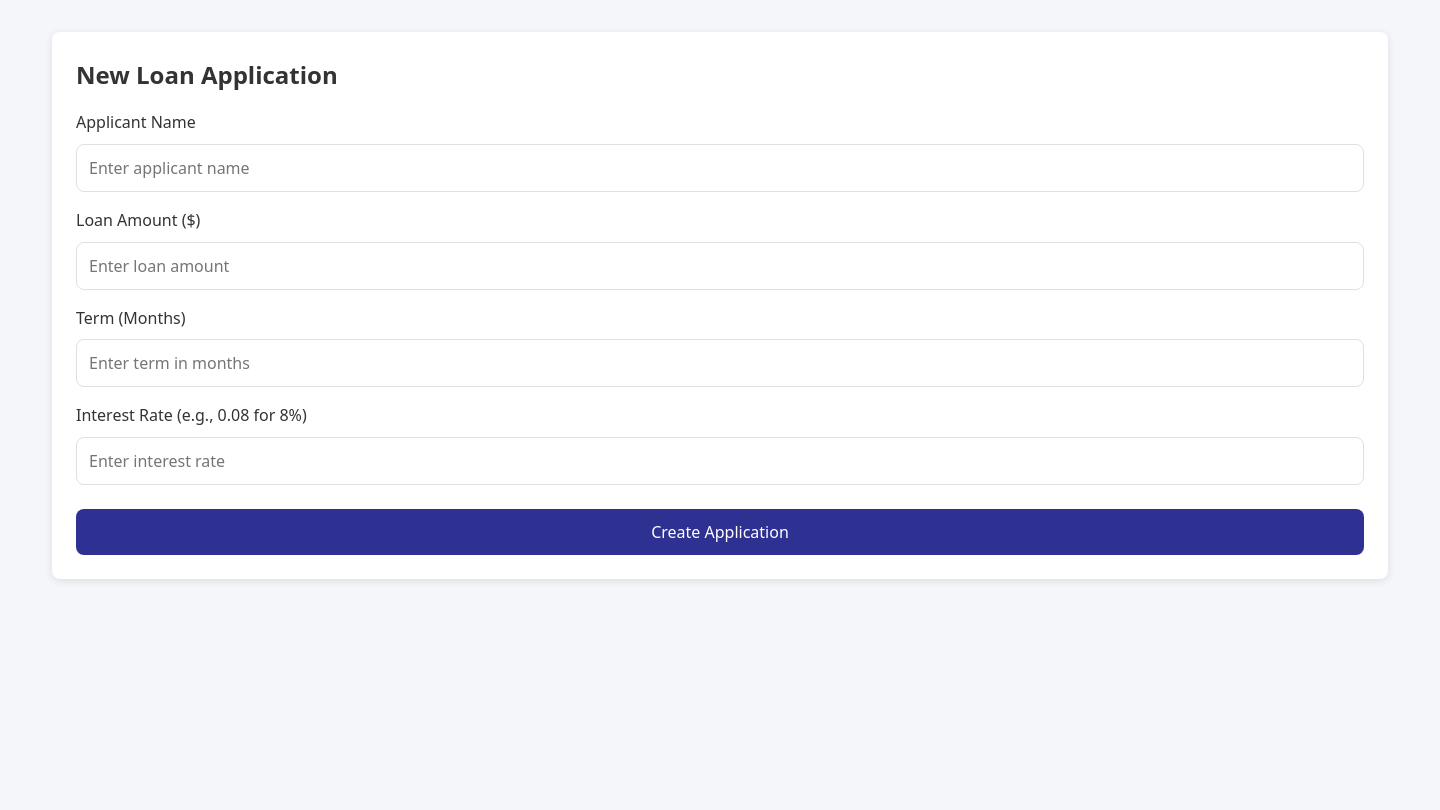
Scenario: LoanForm › validation › shows error when termMonths is empty or zero
Step 1. Type "John Doe" into the field with id "applicantName" → (720, 168), box [76,144,1364,192]
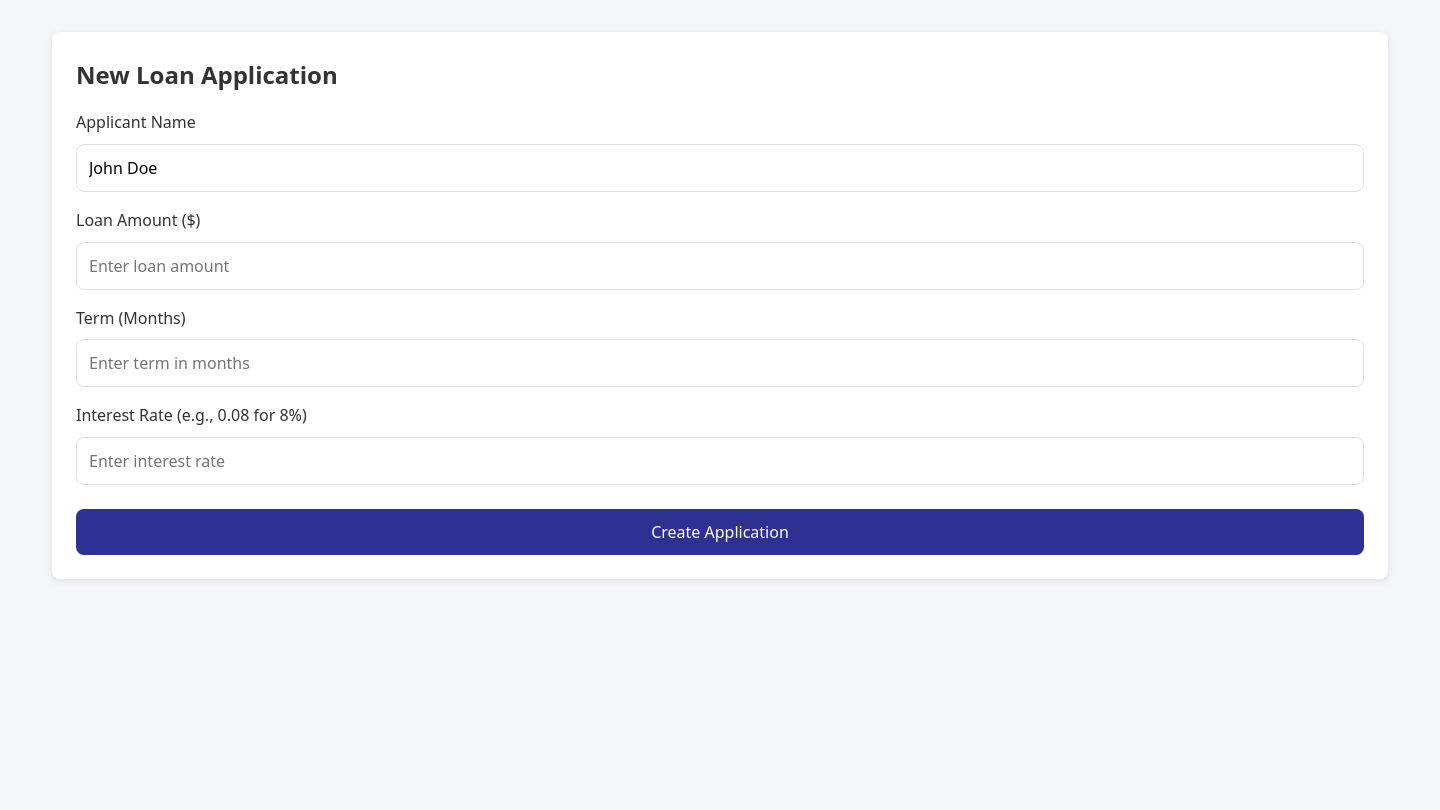
Step 2. Type "10000" into the number field with id "amount" → (720, 266), box [76,242,1364,290]
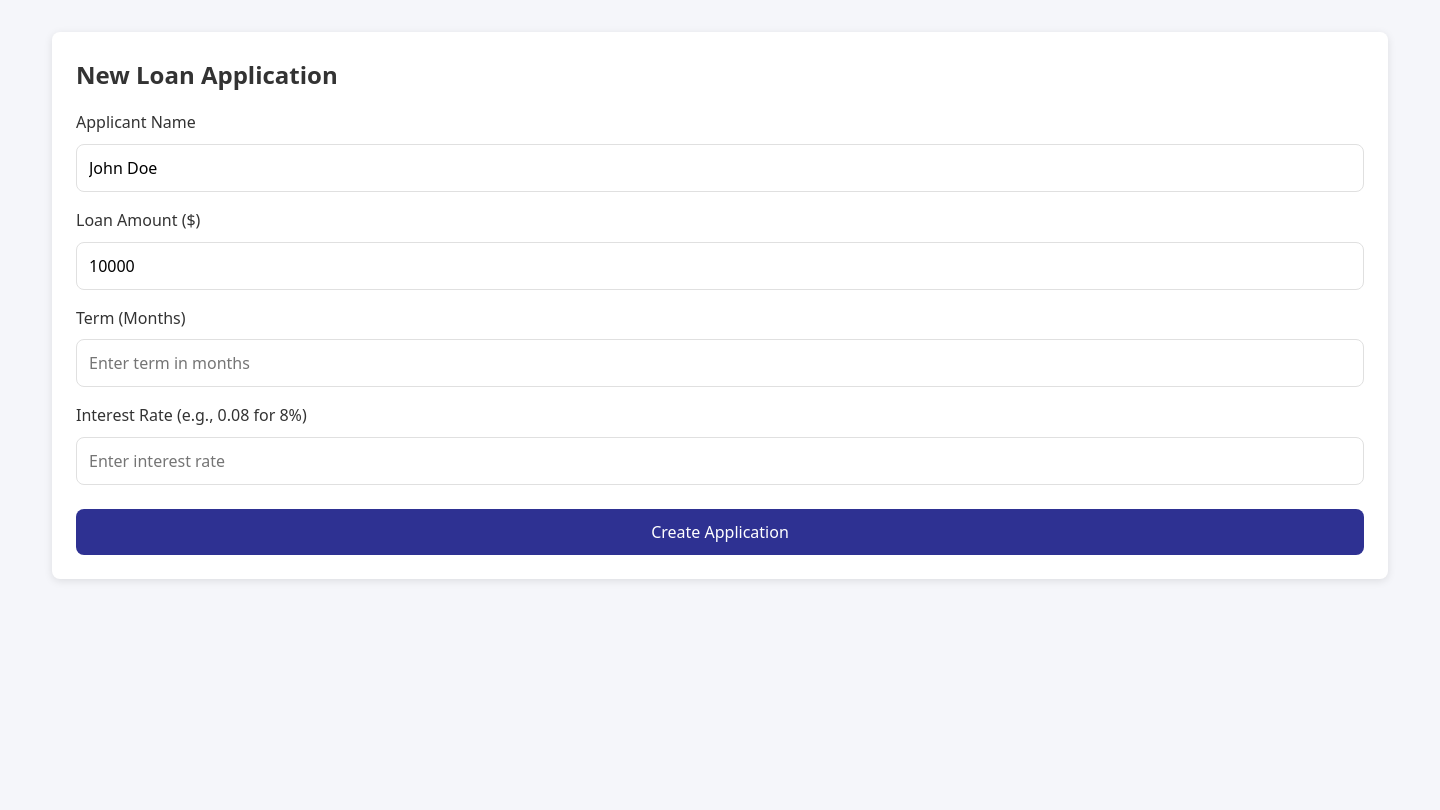
Step 3. Submit the form, box [76,110,1364,555]
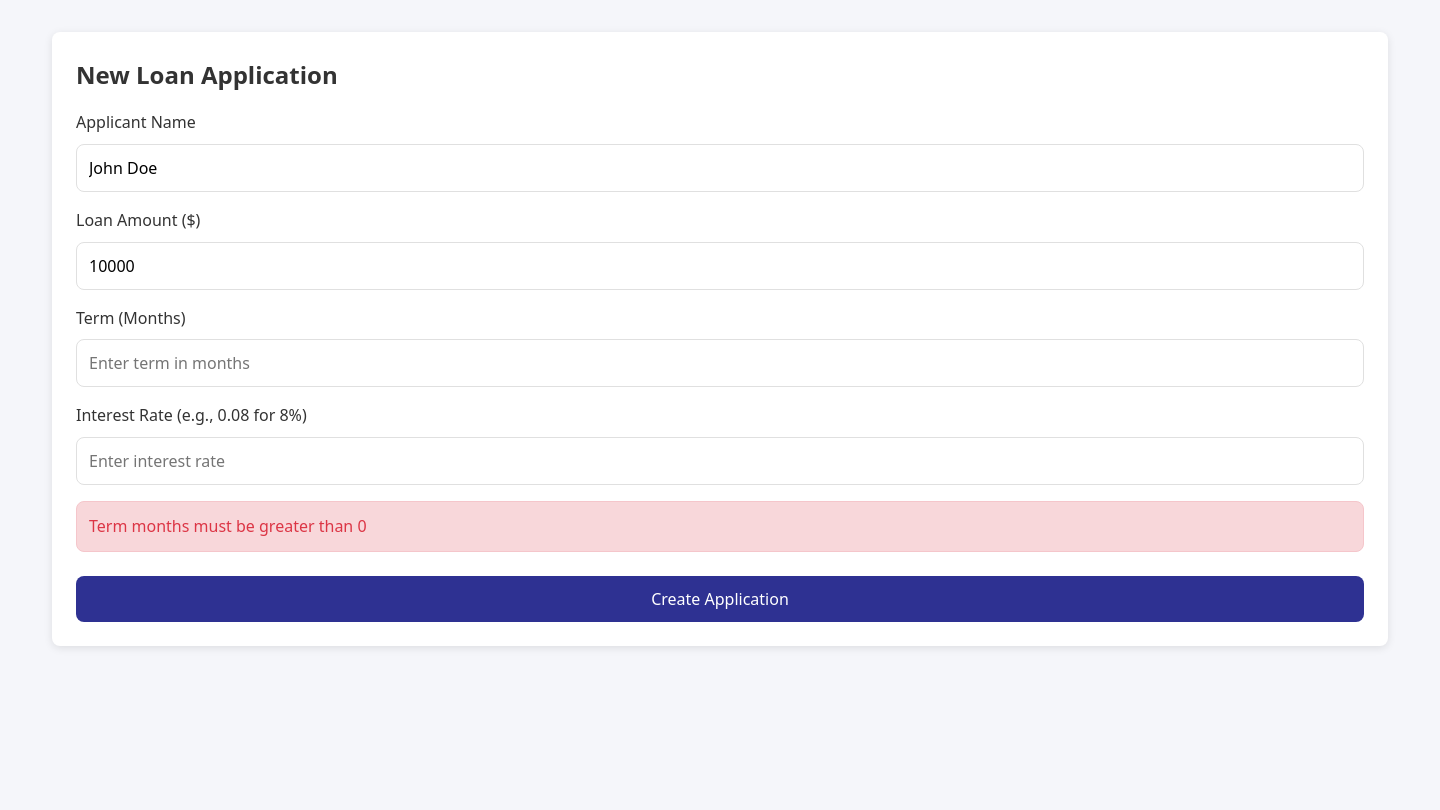
Check: the text with class "error-message" reads "Term months must be greater than 0", box [89,515,367,537]
